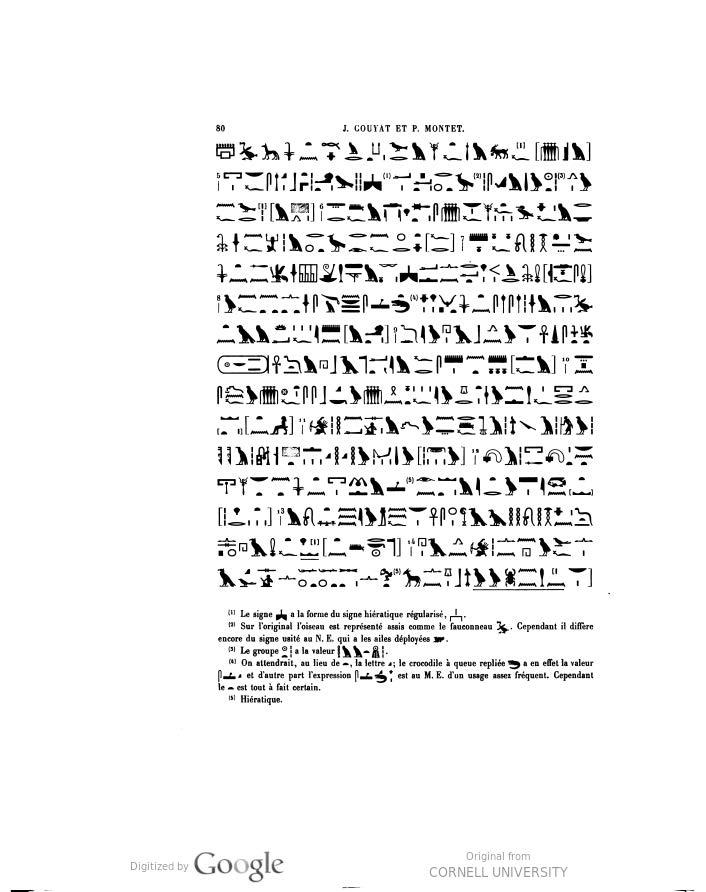circle: (205, 343, 289, 383)
